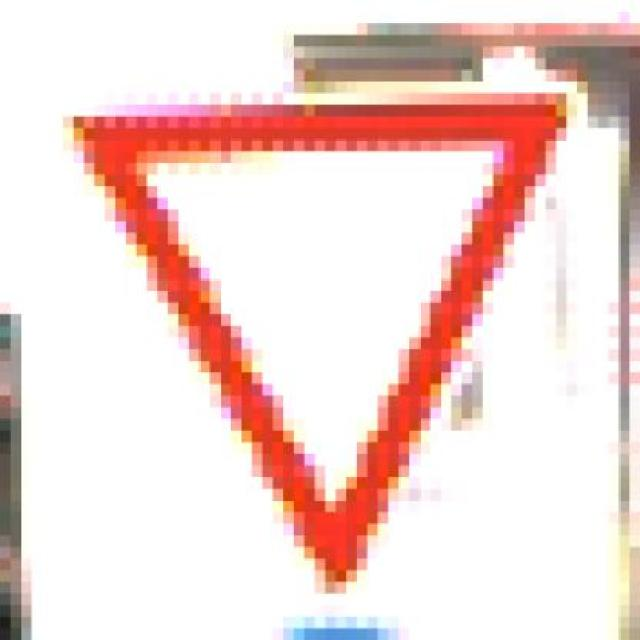Give Way: (52, 81, 588, 605)
